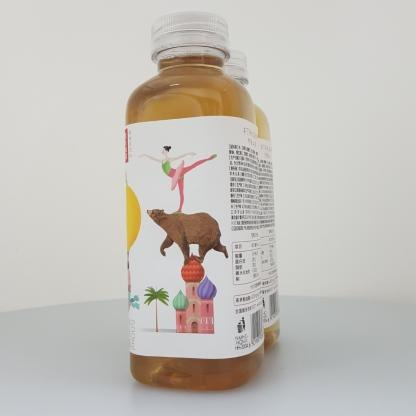------------: (125, 11, 264, 391)
